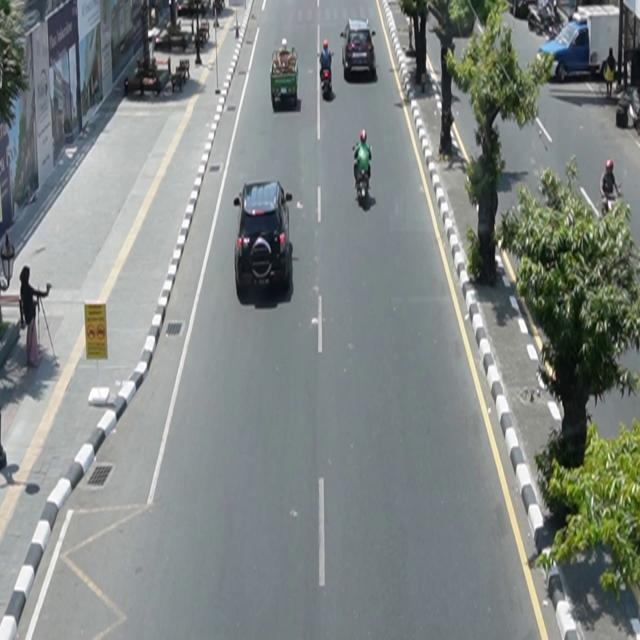car: (234, 180, 294, 295), (341, 18, 377, 78)
truck: (537, 4, 623, 84)
